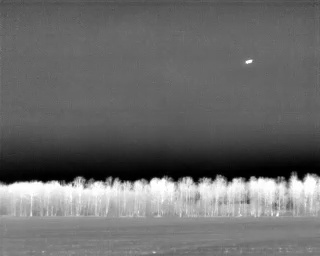DRONE: (241, 55, 257, 69)
